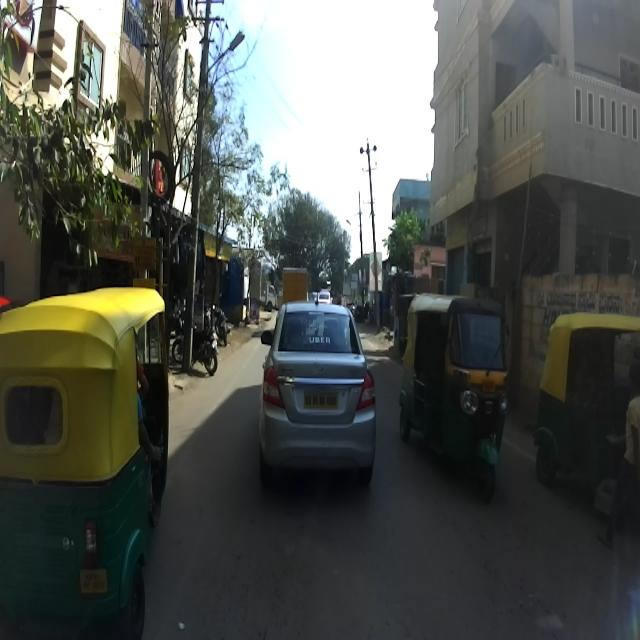autorickshaw: (0, 286, 168, 639), (397, 292, 511, 500), (532, 311, 637, 488)
car: (260, 286, 376, 487)
motorcycle: (172, 306, 218, 375)
